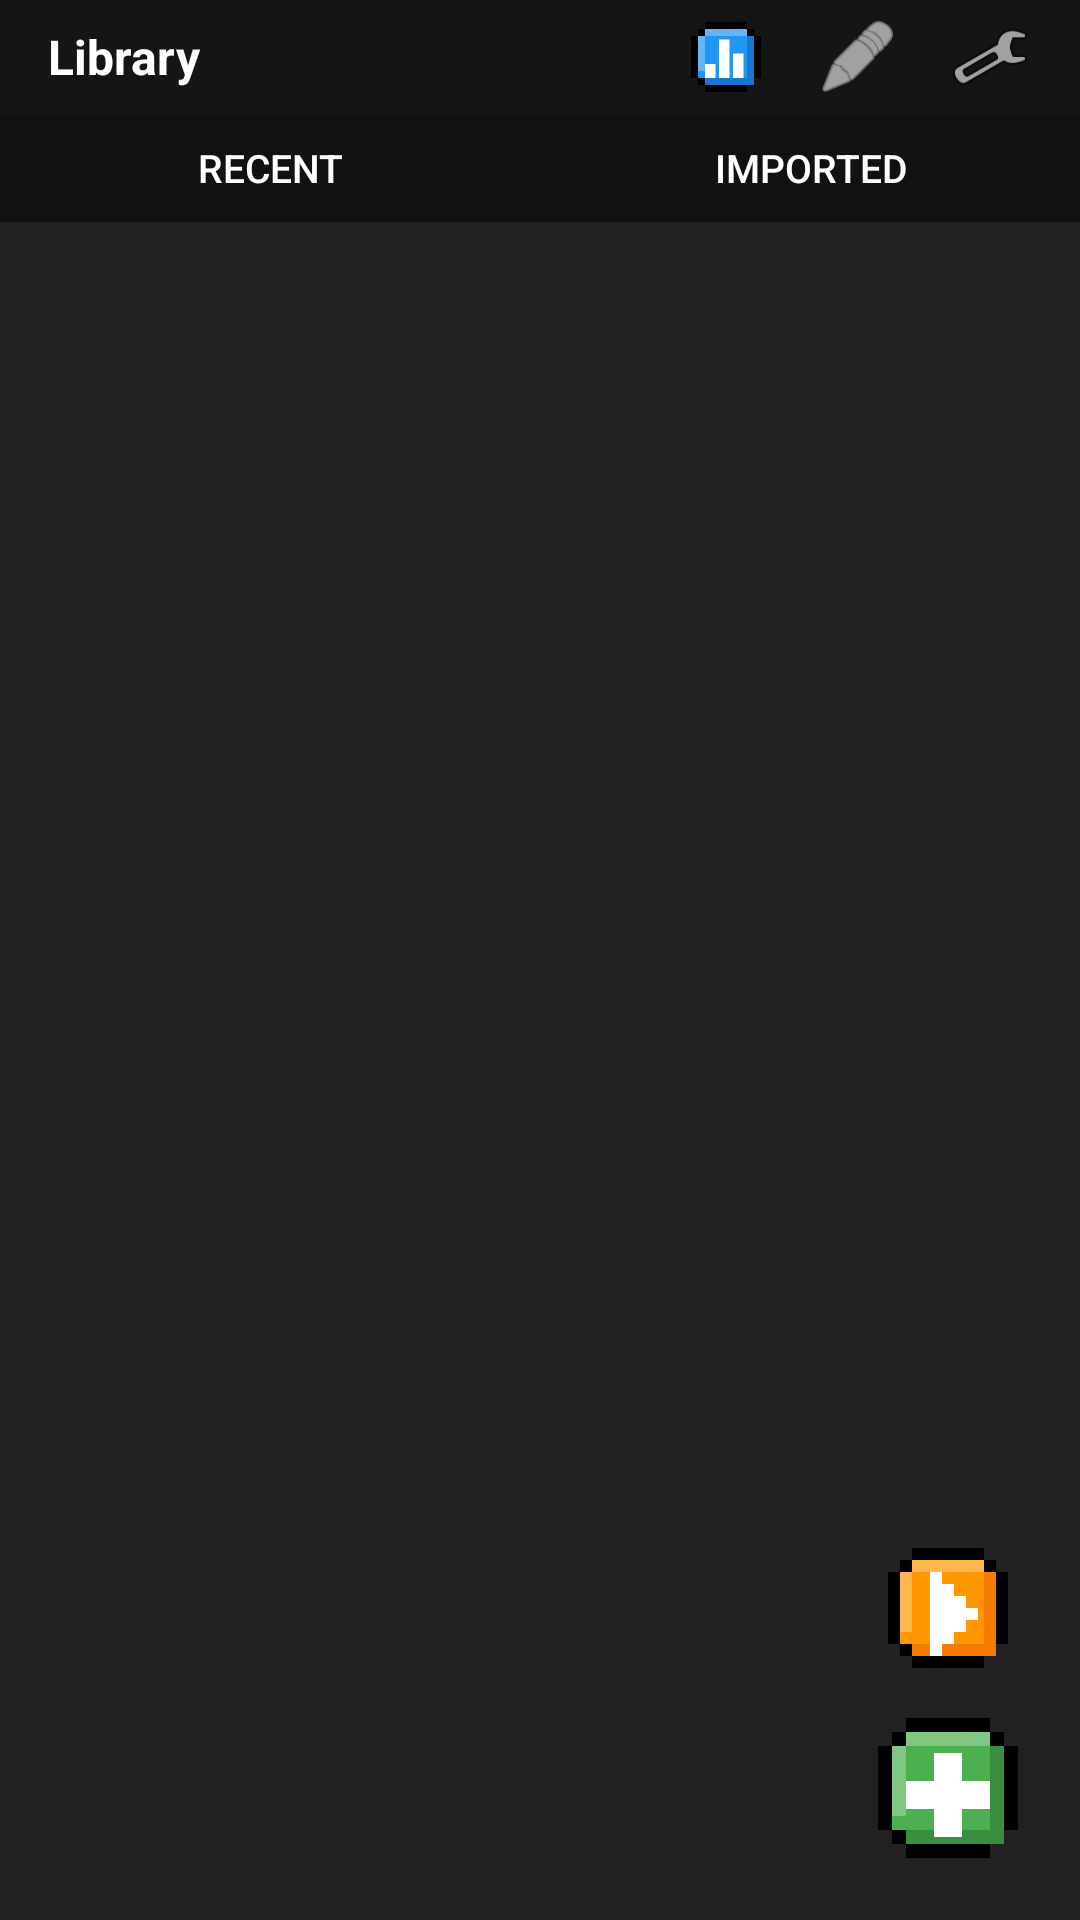

Icons on this 1080 x 1920 Android screen, each with its box as (x1, y1, x2, y2):
edit: (822, 21, 893, 92)
fab add game: (878, 1718, 1018, 1858)
fab continue game: (888, 1548, 1008, 1668)
preferences: (955, 31, 1025, 83)
